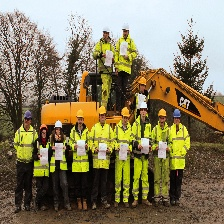helmet: (23, 109, 33, 125), (38, 122, 49, 136), (120, 21, 131, 35), (75, 107, 86, 120), (138, 101, 149, 112), (120, 107, 131, 118), (98, 105, 108, 116), (157, 107, 167, 118), (138, 77, 148, 87), (102, 26, 111, 37), (54, 121, 64, 130), (173, 109, 181, 119)
person: (13, 108, 36, 214), (92, 103, 113, 212), (71, 107, 92, 215), (131, 101, 152, 208), (112, 105, 132, 214), (169, 108, 191, 207), (115, 22, 138, 116), (153, 103, 173, 210), (50, 118, 71, 213), (94, 25, 115, 111), (36, 122, 50, 211)
vest: (13, 126, 36, 168), (132, 117, 152, 164), (112, 118, 133, 162), (71, 127, 91, 173), (91, 125, 111, 170), (170, 125, 188, 171), (151, 119, 170, 162), (95, 41, 117, 77), (114, 36, 134, 75), (51, 135, 68, 177), (33, 137, 50, 179)
